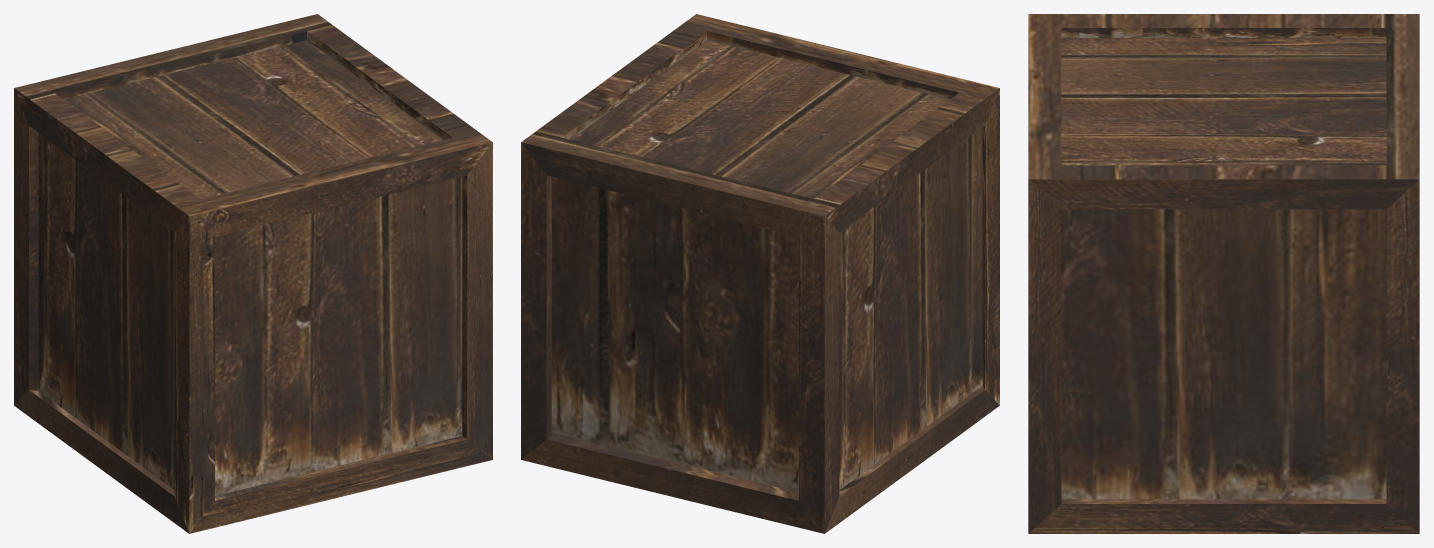
File: Crate_1.glb
3 views of the same model, side by side, from view 1: azimuth 30°, elevation 25°; view 2: azimuth 150°, elevation 25°; view 3: azimuth 270°, elevation 25° (orthographic). The views are drawn at different scales.
Parts seen in each view (by area): view 1: Cube.005; view 2: Cube.005; view 3: Cube.005.
Part boxes in pixels (x1,y1,x2,y2): Cube.005: [14, 14, 492, 533]; Cube.005: [521, 14, 999, 533]; Cube.005: [1028, 14, 1419, 533].
Bounding box in the file's own units: 0.9069 × 0.9069 × 0.9069.
1 material, 1 textured.
